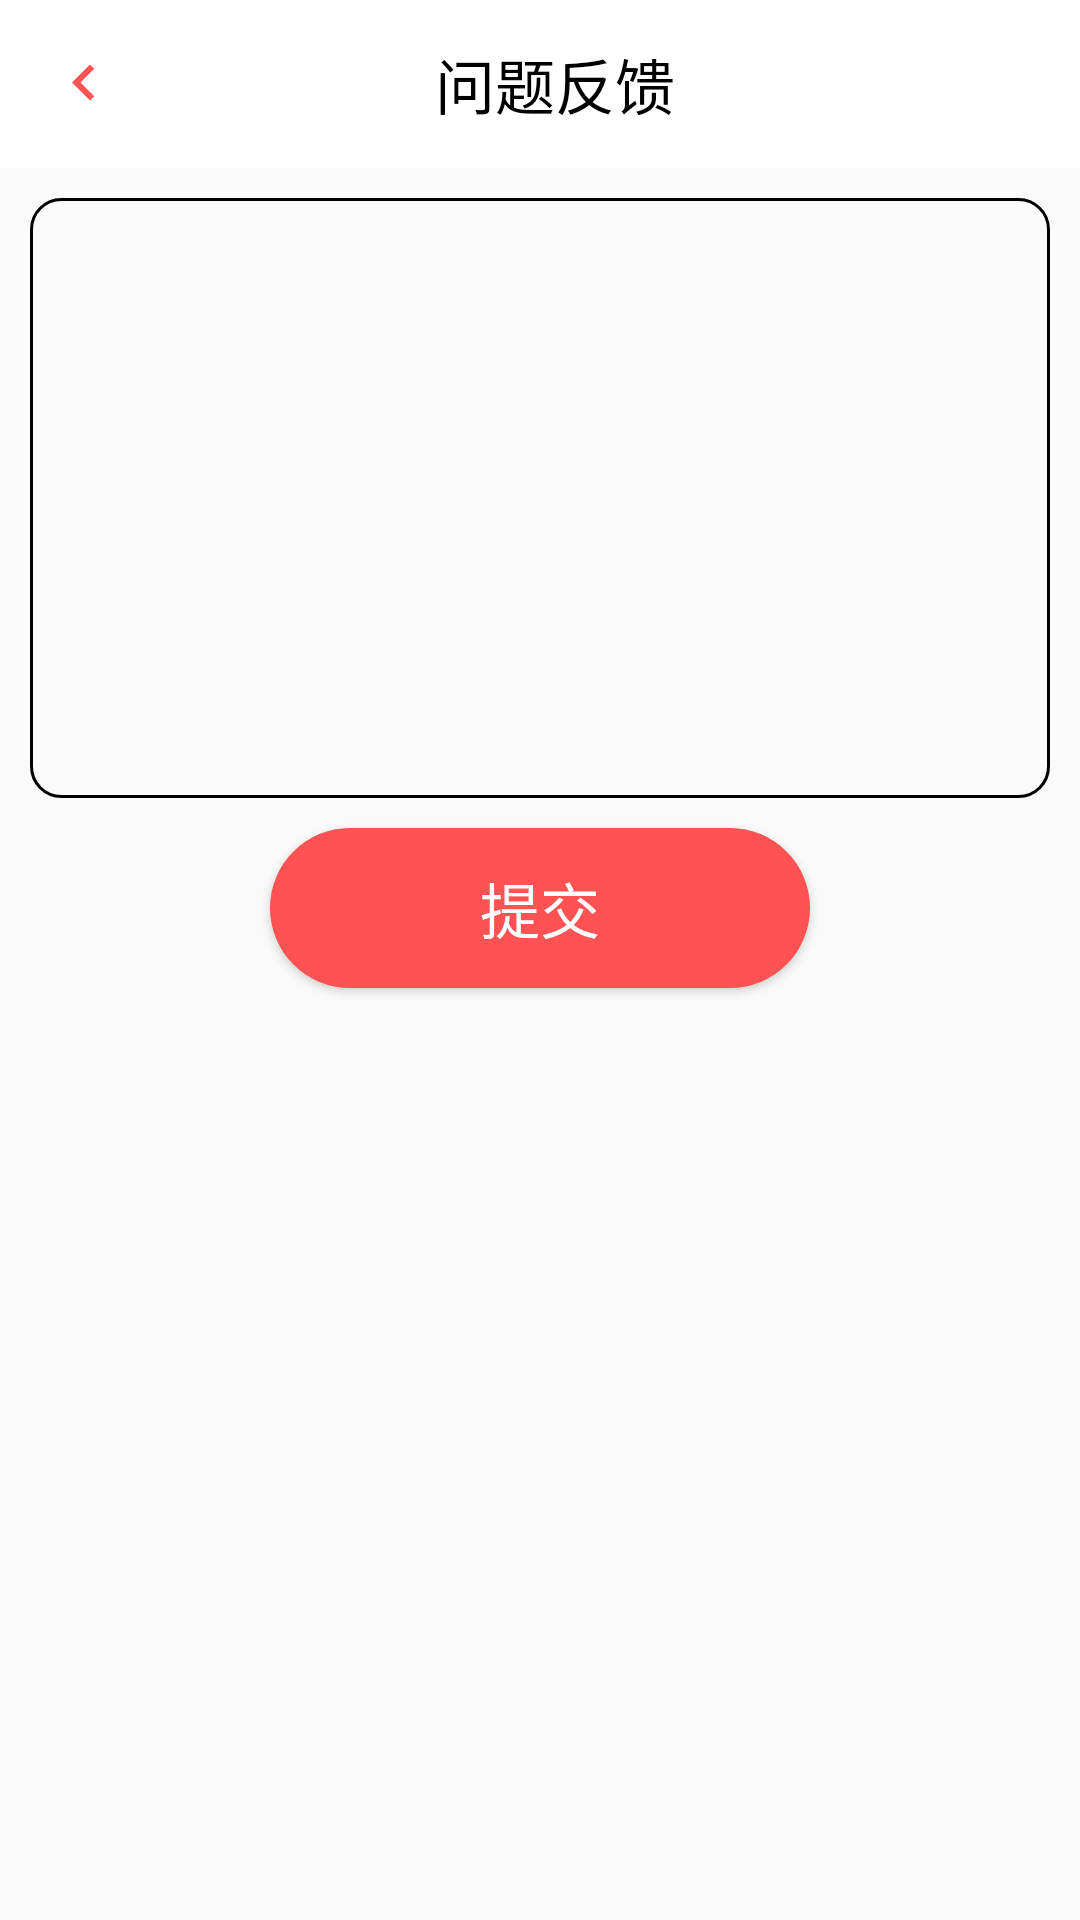

Screen size 1080×1920. Icon name, then its box in pixels as Rect(x1, y1, x2, y2):
back: Rect(72, 65, 94, 100)
